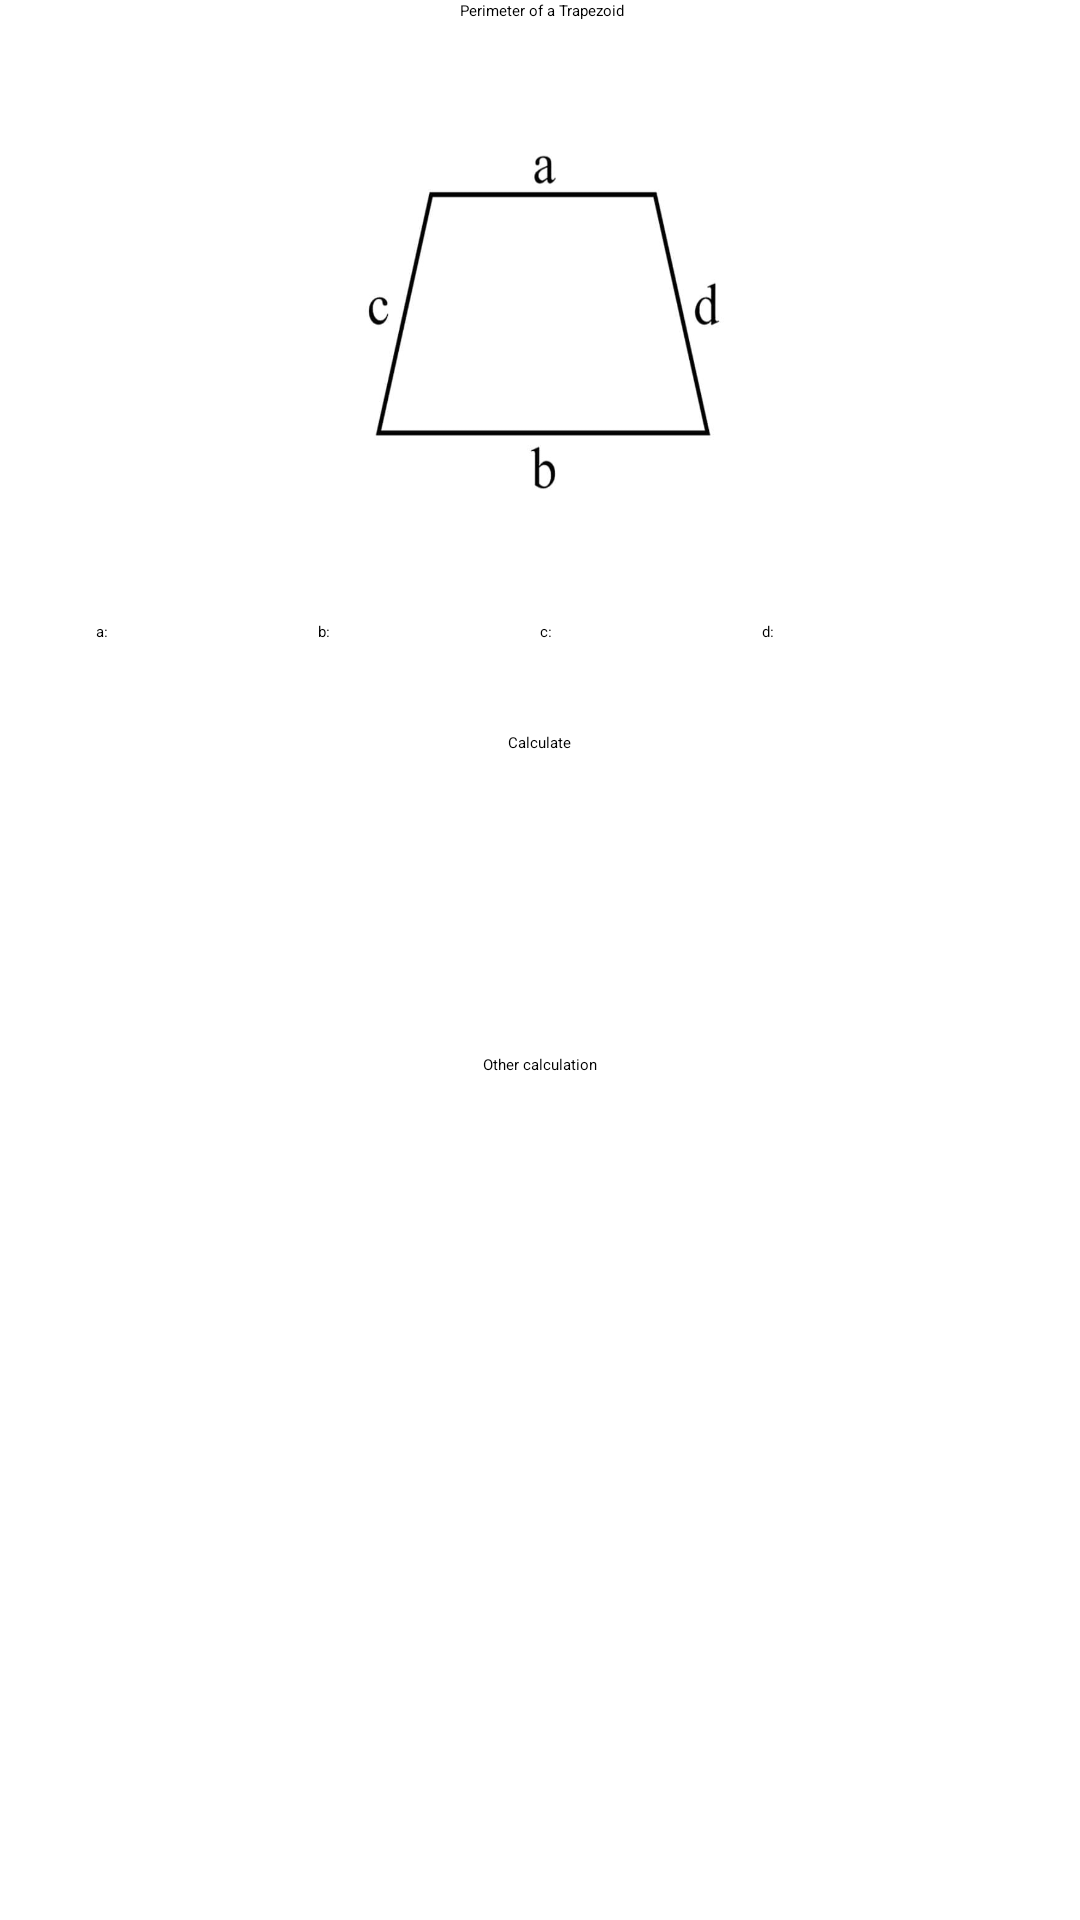

Where icons sit on this 1080*1920 app screen, as [x1=x1, y1=y1, x2=x2, y2=y2]:
tra: [x1=369, y1=155, x2=719, y2=489]
